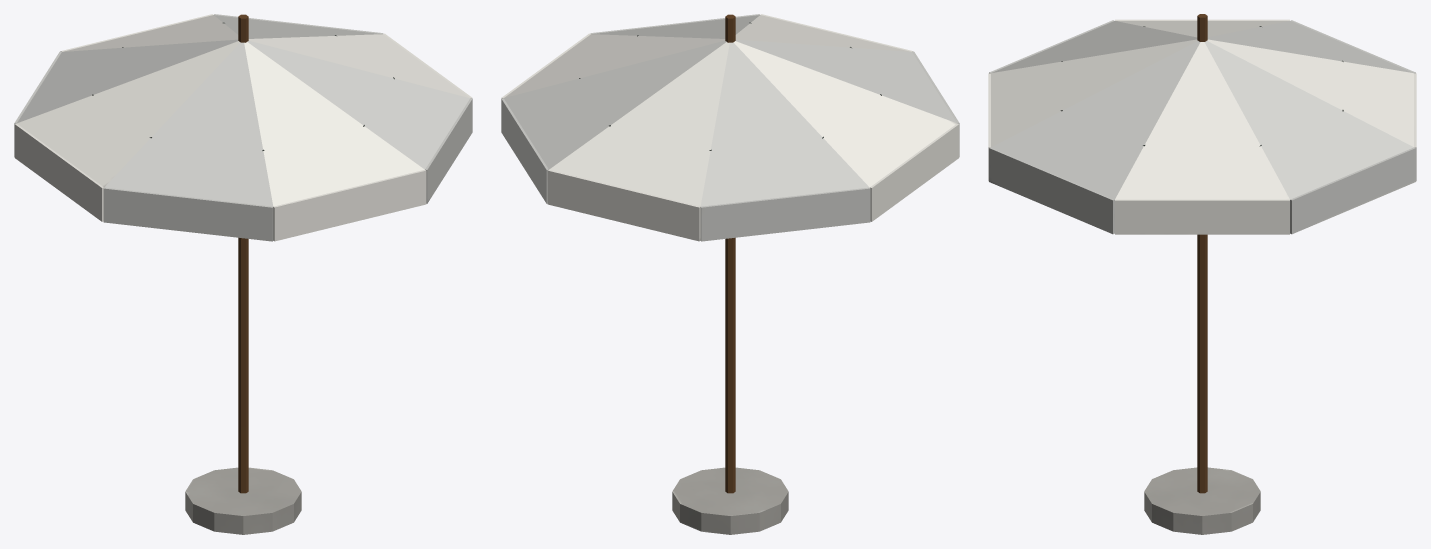
File: slunecnik_905facf5.glb
3 views of the same model, side by side, from view 1: azimuth 30°, elevation 25°; view 2: azimuth 150°, elevation 25°; view 3: azimuth 270°, elevation 25° (orthographic).
Parts seen in each view (by area): view 1: dum; view 2: dum; view 3: dum.
Boxes of the visible parts, x1=… form: dum: x1=14, y1=14, x2=472, y2=534; dum: x1=501, y1=14, x2=959, y2=534; dum: x1=988, y1=14, x2=1416, y2=534.
Bounding box in the file's own units: 2.05 × 2.61 × 2.05.
1 material, 1 textured.
